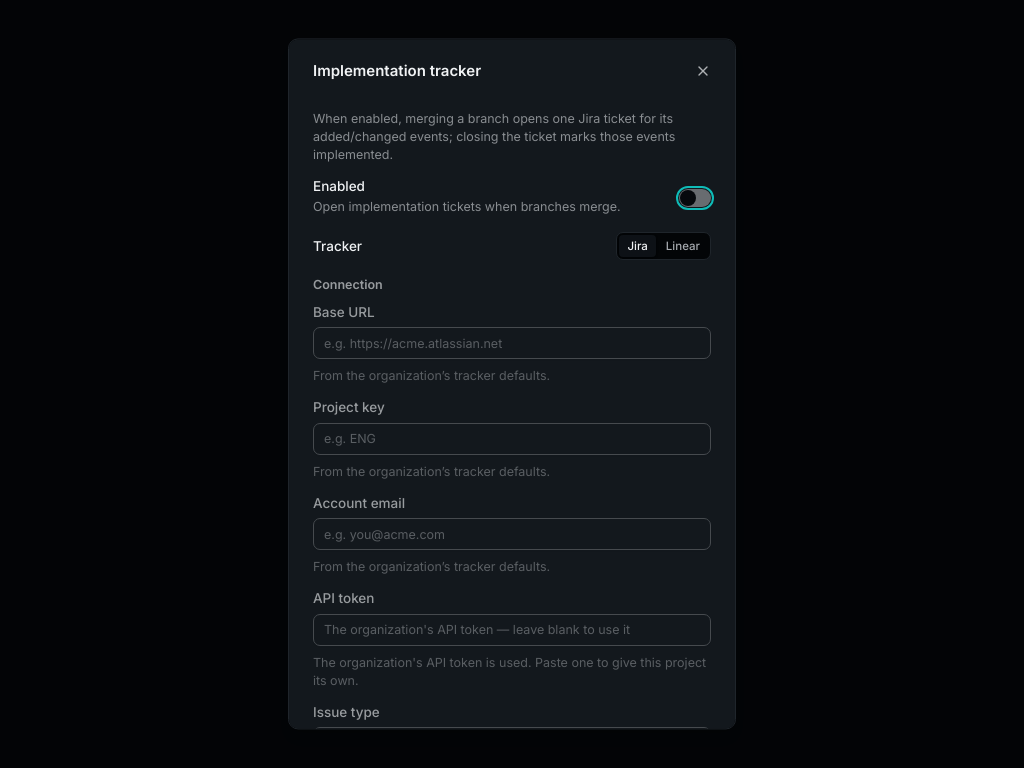
Test: TrackerConfigDialog › the organization's tracker defaults (F20 PR12) › asks for the project's own account and token once it names its own site (critique #13)
Click the switch named "Enabled": (695, 198) [679,189,711,207]
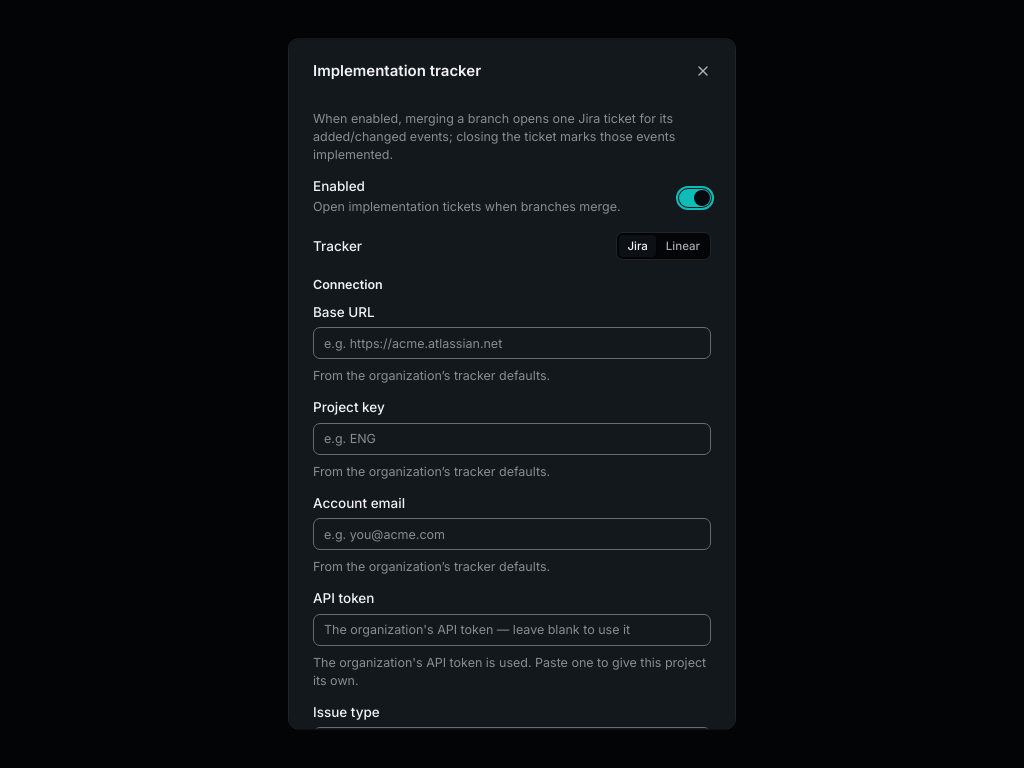
In the field labelled "Base URL": (512, 343) [313,327,711,359], type "https://other.atlassian.net"
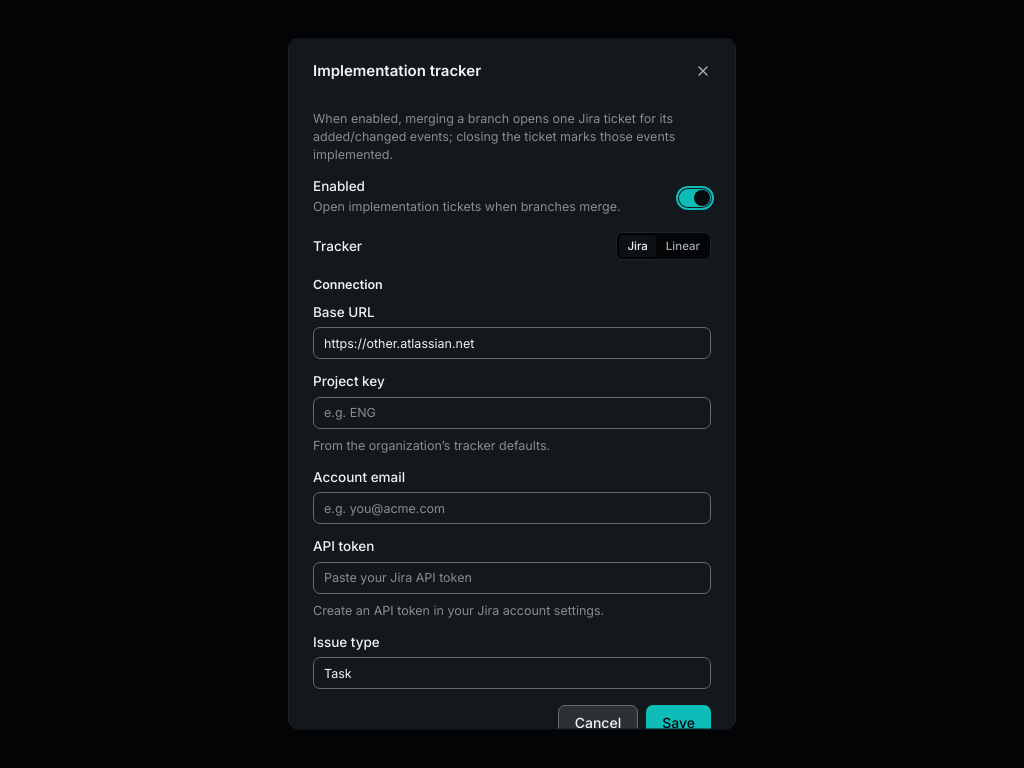
Click the button "Save": (679, 723) [646,705,711,741]
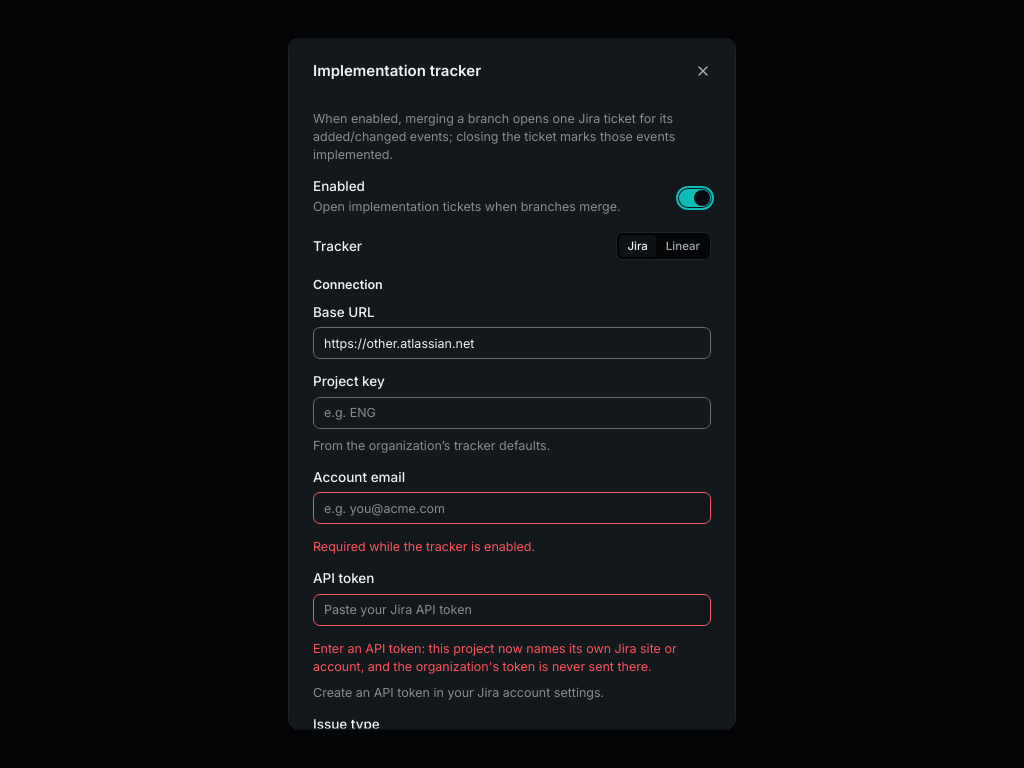
Check: the text "Required while the tracker is enabled." is shown once, box [313,539,535,554]
Check: the text "the organization's token is never sent there" is shown, box [313,641,677,674]
